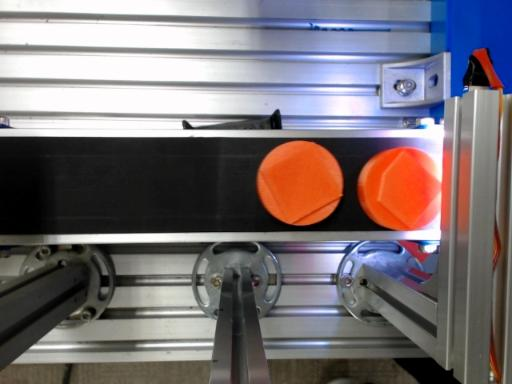Orange_Waper: (257, 141, 342, 225), (358, 147, 440, 230)
